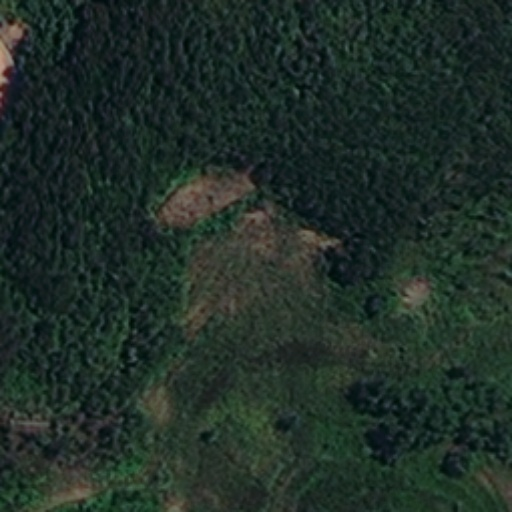landslide: (155, 167, 261, 229)
